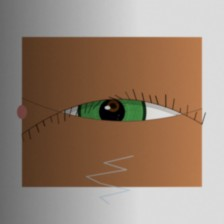foreign_body_visible: (95, 92, 131, 120)
